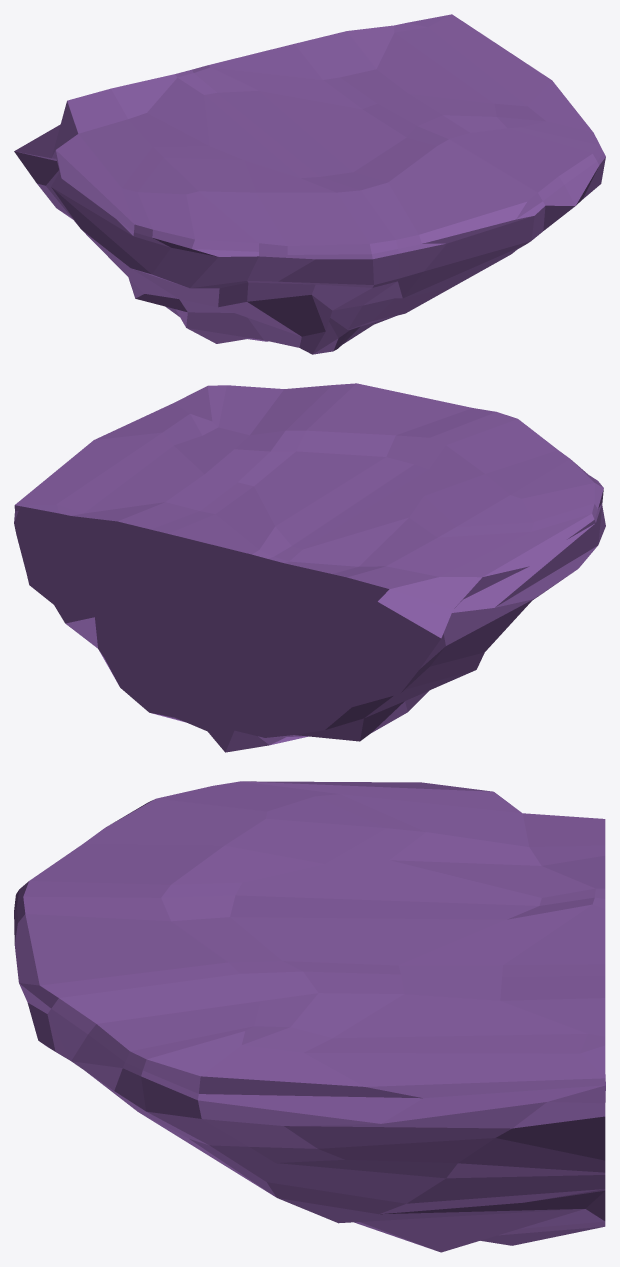
The model's file is rock.fbx.
The picture shows the model from 3 angles, top to bottom: view 1: azimuth 30°, elevation 25°; view 2: azimuth 150°, elevation 25°; view 3: azimuth 270°, elevation 25°; orthographic projection. The views are drawn at different scales.
Visible parts, largest first — view 1: pCylinder1; view 2: pCylinder1; view 3: pCylinder1.
Boxes of the visible parts, x1,y1,x2,y2 form: pCylinder1: (14,14,605,354); pCylinder1: (14,383,605,752); pCylinder1: (14,781,605,1252).
Size of the model in its own units: 28.83 by 13.12 by 23.22.
